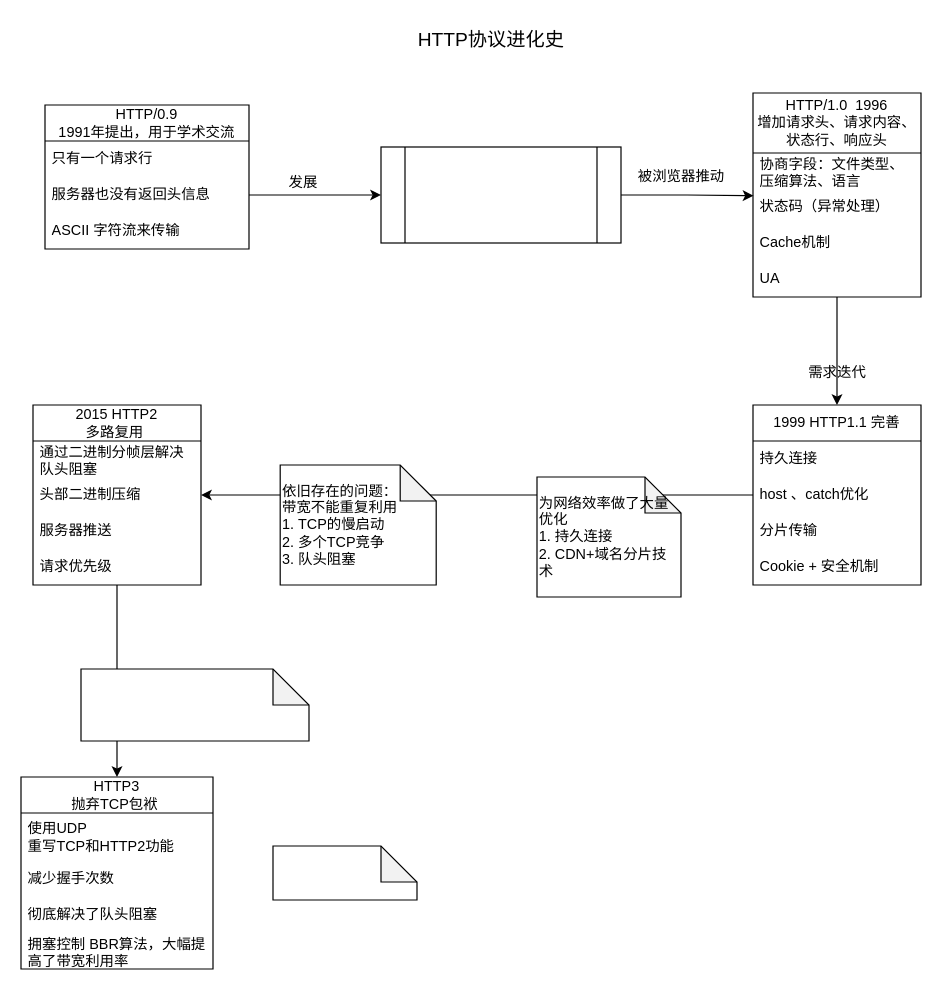
The diagram is 942 pixels wide and 990 high, and some of its shapes have lost their labels. The centre of each missing label's shape, as x and y in pixels:
1. TCP层面依旧存在队头阻塞 2. TCP握手+TLS握手时间长 3. 中间设备僵化 很难升级TCP: (194,704)
1994年底出现拨号上网 同年网景又推出一款浏览器 随之而来W3C和HTTP工作组: (500,194)
改动了底层协议 推广面临巨大挑战: (344,872)
